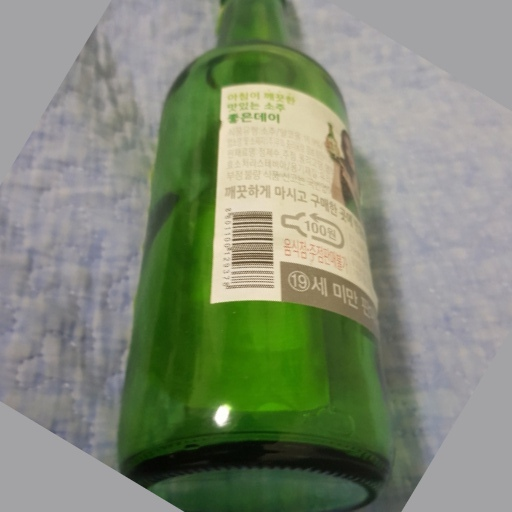Glass_0: (113, 1, 394, 512)
